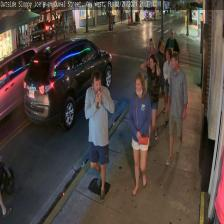person: (84, 70, 114, 200), (129, 72, 151, 196), (166, 52, 188, 165), (141, 55, 161, 149), (154, 40, 166, 114), (163, 48, 174, 124), (146, 38, 156, 111)
